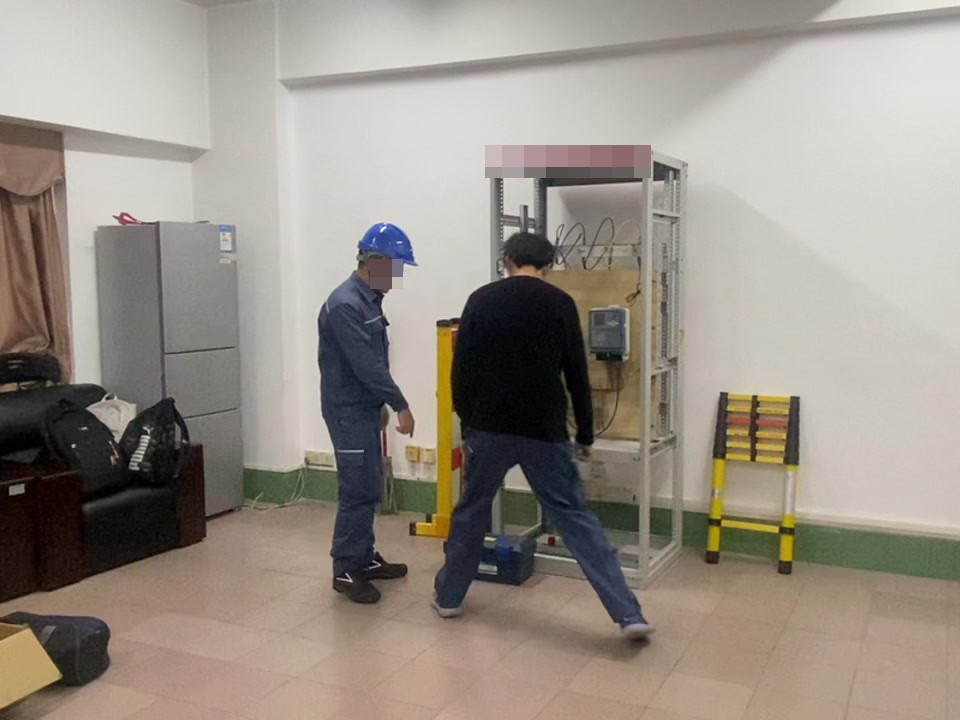downsuit: (434, 435, 635, 615), (326, 415, 391, 574)
halt: (355, 222, 415, 289)
hand: (395, 406, 414, 432)
inear: (361, 250, 388, 284)
person: (434, 234, 655, 635), (315, 219, 420, 597)
unhalt: (501, 233, 558, 278)
upcloth: (452, 276, 594, 432)
upsuit: (318, 278, 403, 413)
